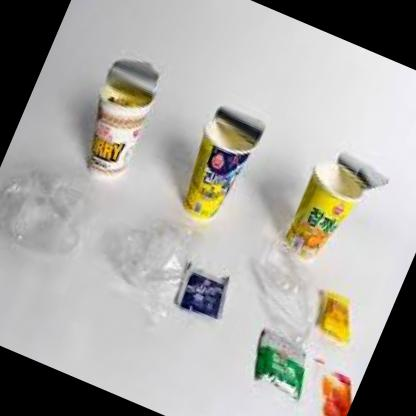Ramen: (165, 102, 272, 238), (272, 142, 374, 280), (69, 55, 176, 182)
